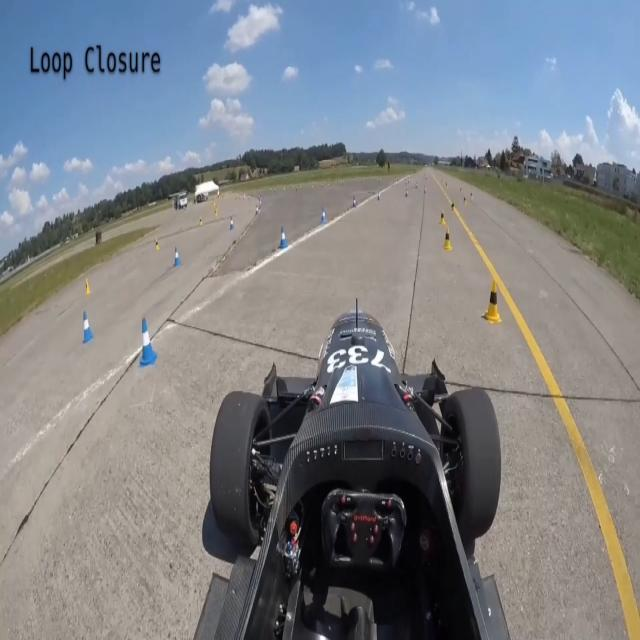blue_cone: (138, 316, 157, 372), (82, 310, 94, 346), (277, 224, 288, 251), (174, 246, 182, 268), (320, 208, 327, 226), (229, 215, 235, 233), (352, 196, 357, 208), (377, 192, 381, 202)
yellow_cone: (479, 278, 502, 324), (441, 228, 454, 254), (438, 212, 447, 230), (85, 279, 92, 298), (450, 199, 456, 216), (154, 240, 160, 252), (198, 216, 203, 227)
